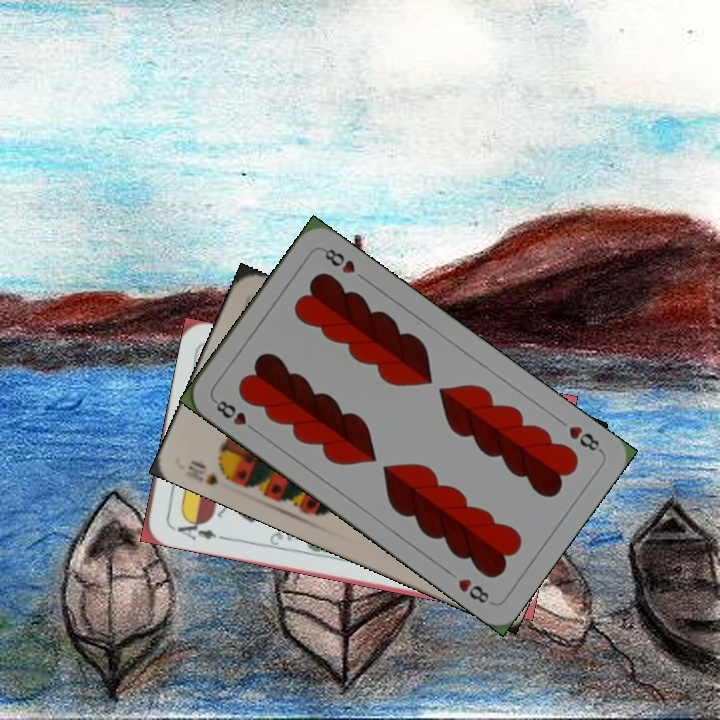EA: (168, 513, 227, 544)
H8: (209, 395, 261, 436), (564, 421, 605, 455)
S10: (181, 456, 237, 489)
